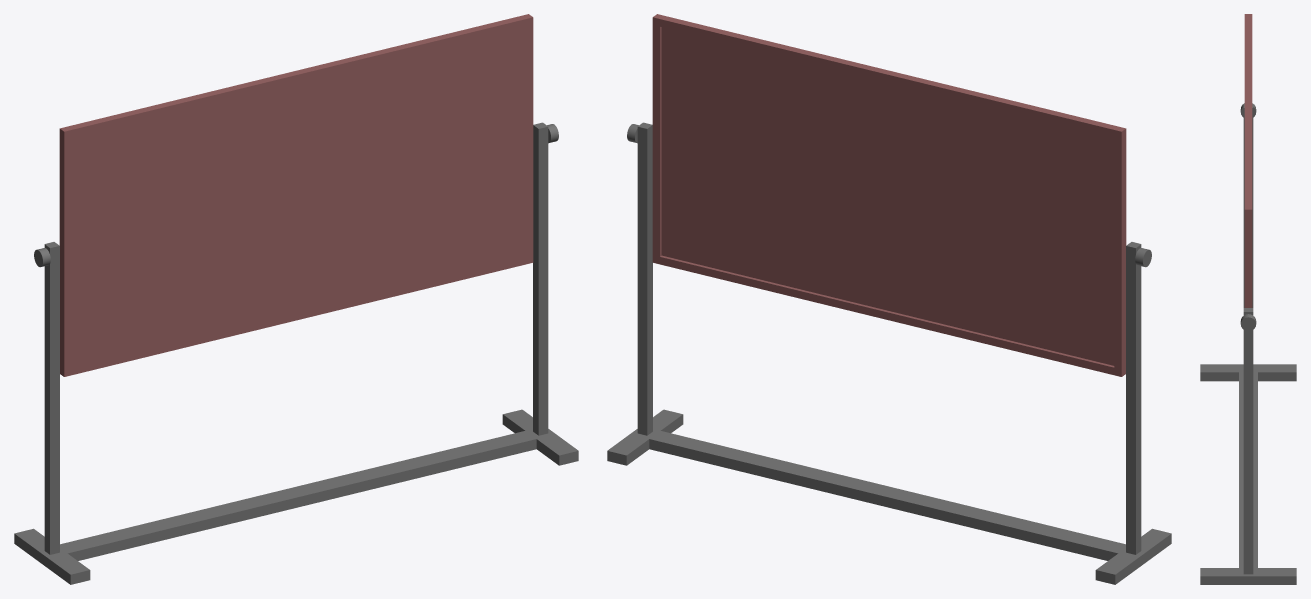
File: corkboard.fbx
The picture shows the model from 3 angles, left to right: view 1: azimuth 30°, elevation 25°; view 2: azimuth 150°, elevation 25°; view 3: azimuth 270°, elevation 25°; orthographic projection. The views are drawn at different scales.
Parts seen in each view (by area): view 1: pCube4, pCube7, pCube8, pCube9, pCube5, pCube6; view 2: pCube4, pCube7, pCube8, pCube9, pCube5, pCube6; view 3: pCube8, pCube4, pCube7, pCube6, pCube5, pCube9, pCylinder3.
Part boxes in pixels (x1,y1,x2,y2): pCube4: (59,14,533,376); pCube7: (60,431,536,560); pCube8: (533,122,548,435); pCube9: (44,242,59,554); pCube5: (14,528,90,584); pCube6: (502,409,578,465); pCube4: (652,14,1126,376); pCube7: (649,431,1125,560); pCube8: (637,122,652,435); pCube9: (1126,242,1141,554); pCube5: (1095,528,1171,584); pCube6: (607,409,683,465); pCube8: (1243,308,1253,574); pCube4: (1244,14,1252,307); pCube7: (1239,372,1257,567); pCube6: (1200,568,1296,584); pCube5: (1200,364,1296,381); pCube9: (1243,104,1253,307); pCylinder3: (1240,314,1256,331).
Bounding box in the file's own units: 26.4 × 21 × 5.
